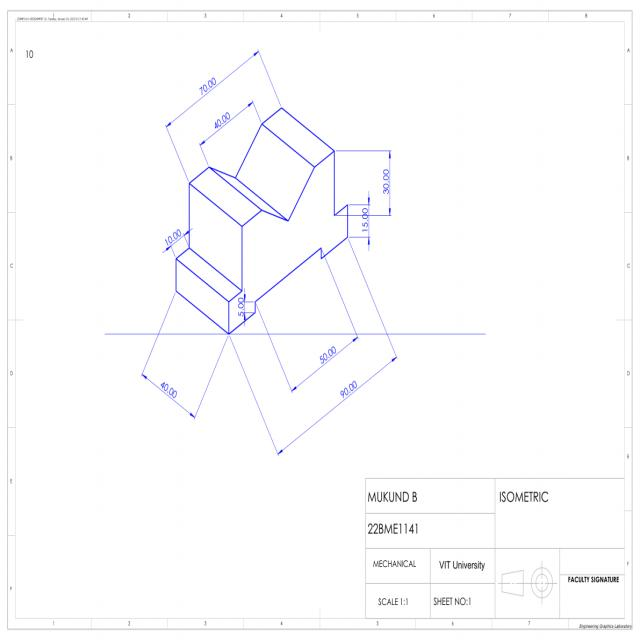Drawings: (86, 32, 499, 467)
